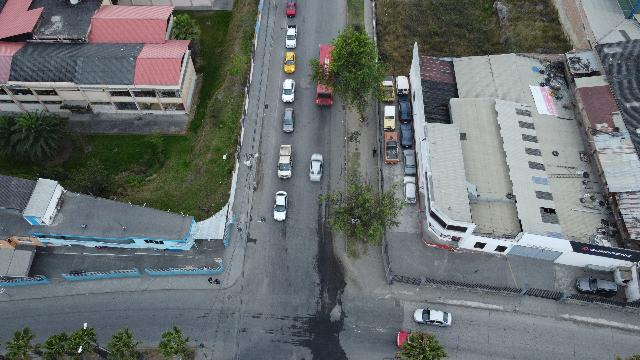Vehiculo: (414, 308, 452, 328), (396, 330, 429, 348), (384, 132, 400, 164), (278, 145, 292, 179), (273, 191, 287, 221), (310, 154, 322, 182), (398, 98, 412, 122), (402, 150, 416, 174), (404, 176, 416, 204), (282, 109, 294, 133), (383, 106, 395, 130), (400, 124, 412, 148), (282, 80, 294, 102), (396, 75, 409, 95), (286, 24, 296, 48), (284, 52, 296, 72), (286, 2, 296, 16)
